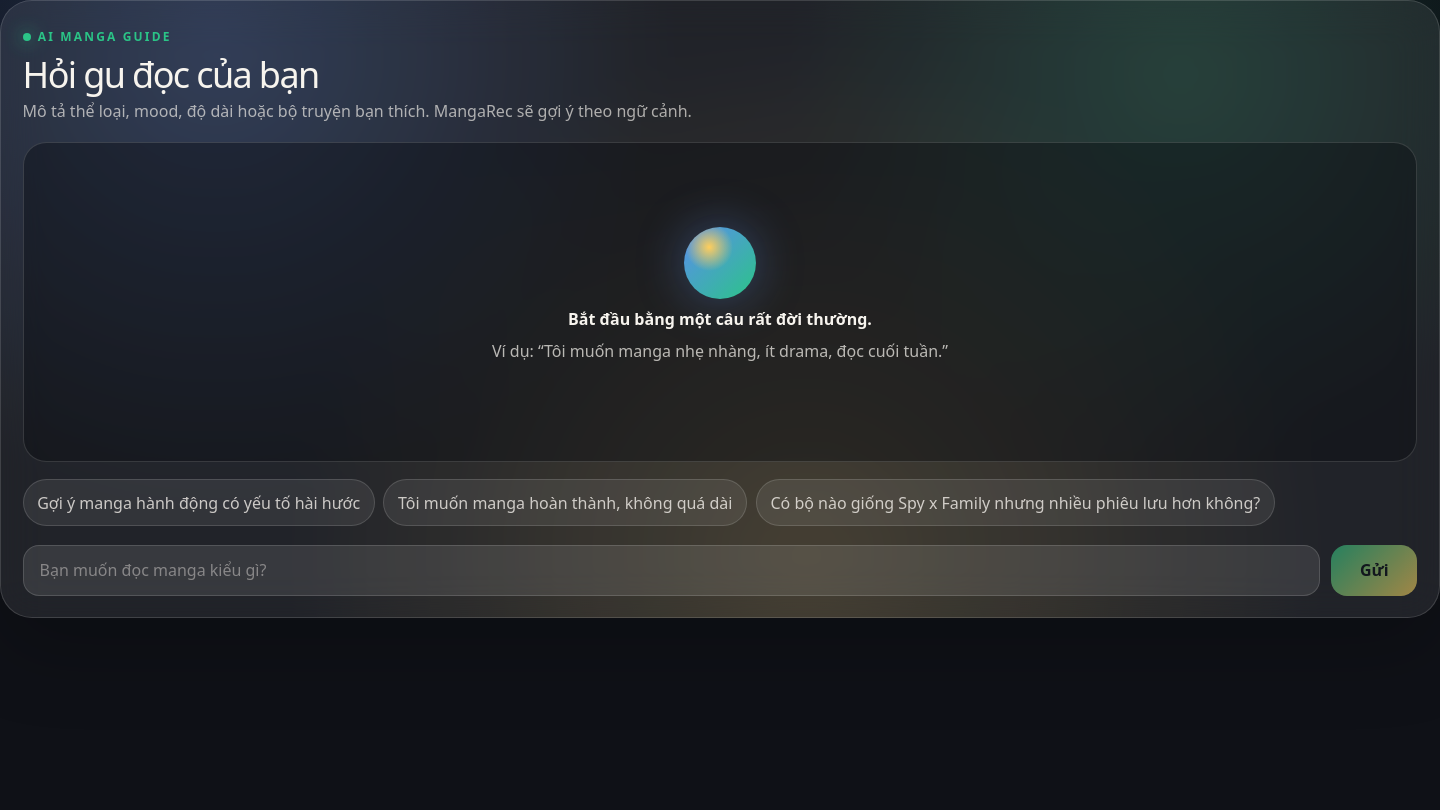
ChatPanel › handles starter prompts
The width and height of the screenshot is (1440, 810).
What coordinates should you click on to do the following:
click the button "Gợi ý manga hành động có yếu tố hài hước"
I would click on:
 (199, 503)
Its box is [23, 479, 375, 526].
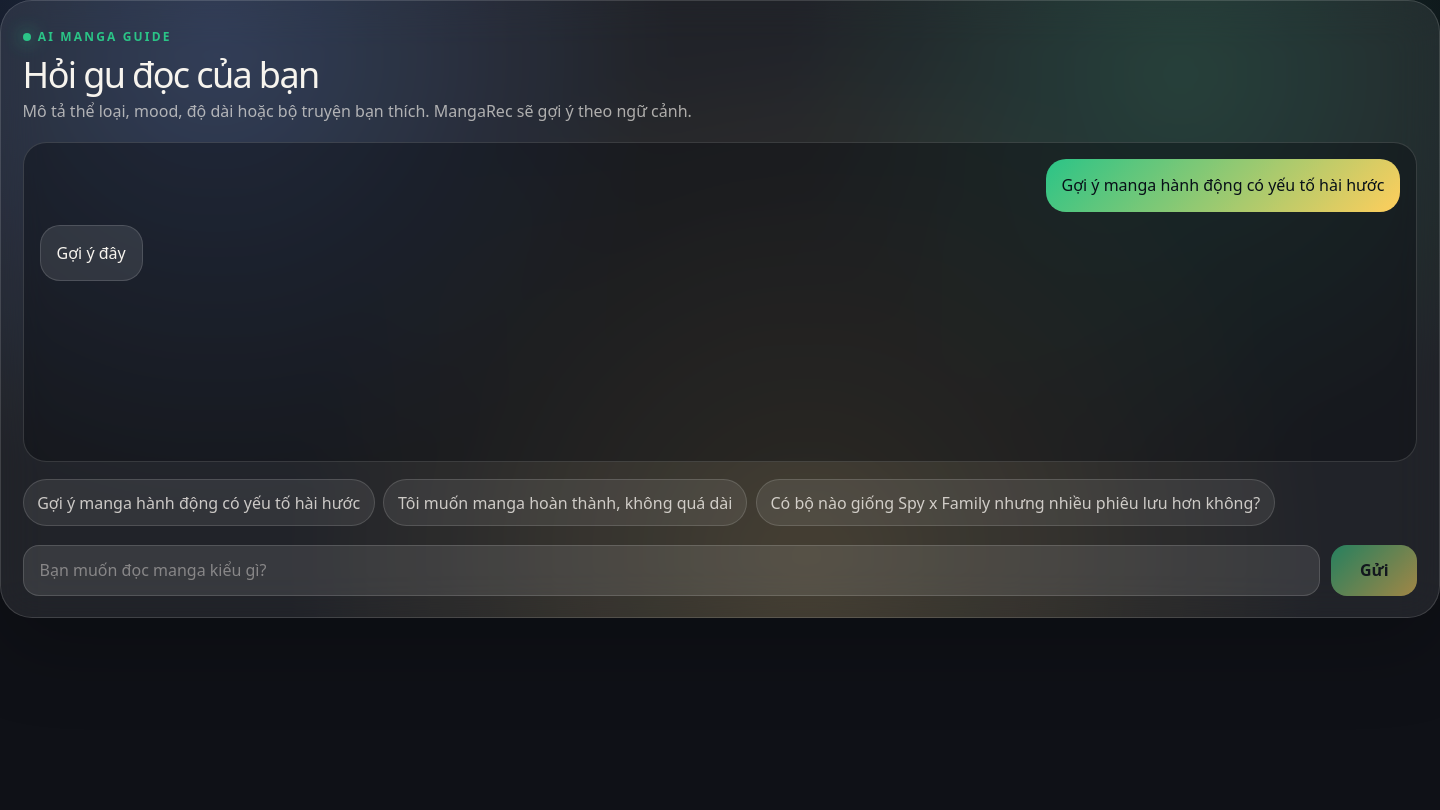
Check: the text "Gợi ý manga hành động có yếu tố hài hước" is shown, box [1062, 173, 1384, 198]
Check: the text "Gợi ý đây" is shown, box [57, 240, 126, 265]
